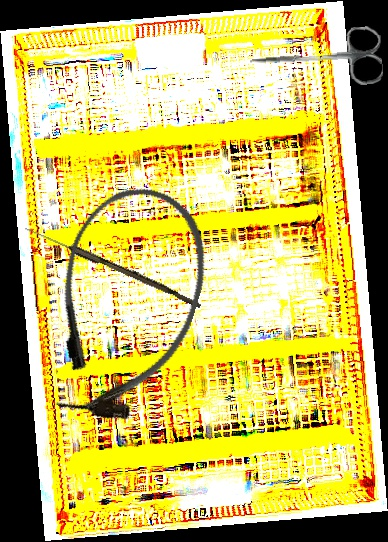Cannula: (26, 172, 226, 436)
Iris Scissors: (248, 25, 384, 93)
Surgical Spoon: (22, 224, 204, 309)
